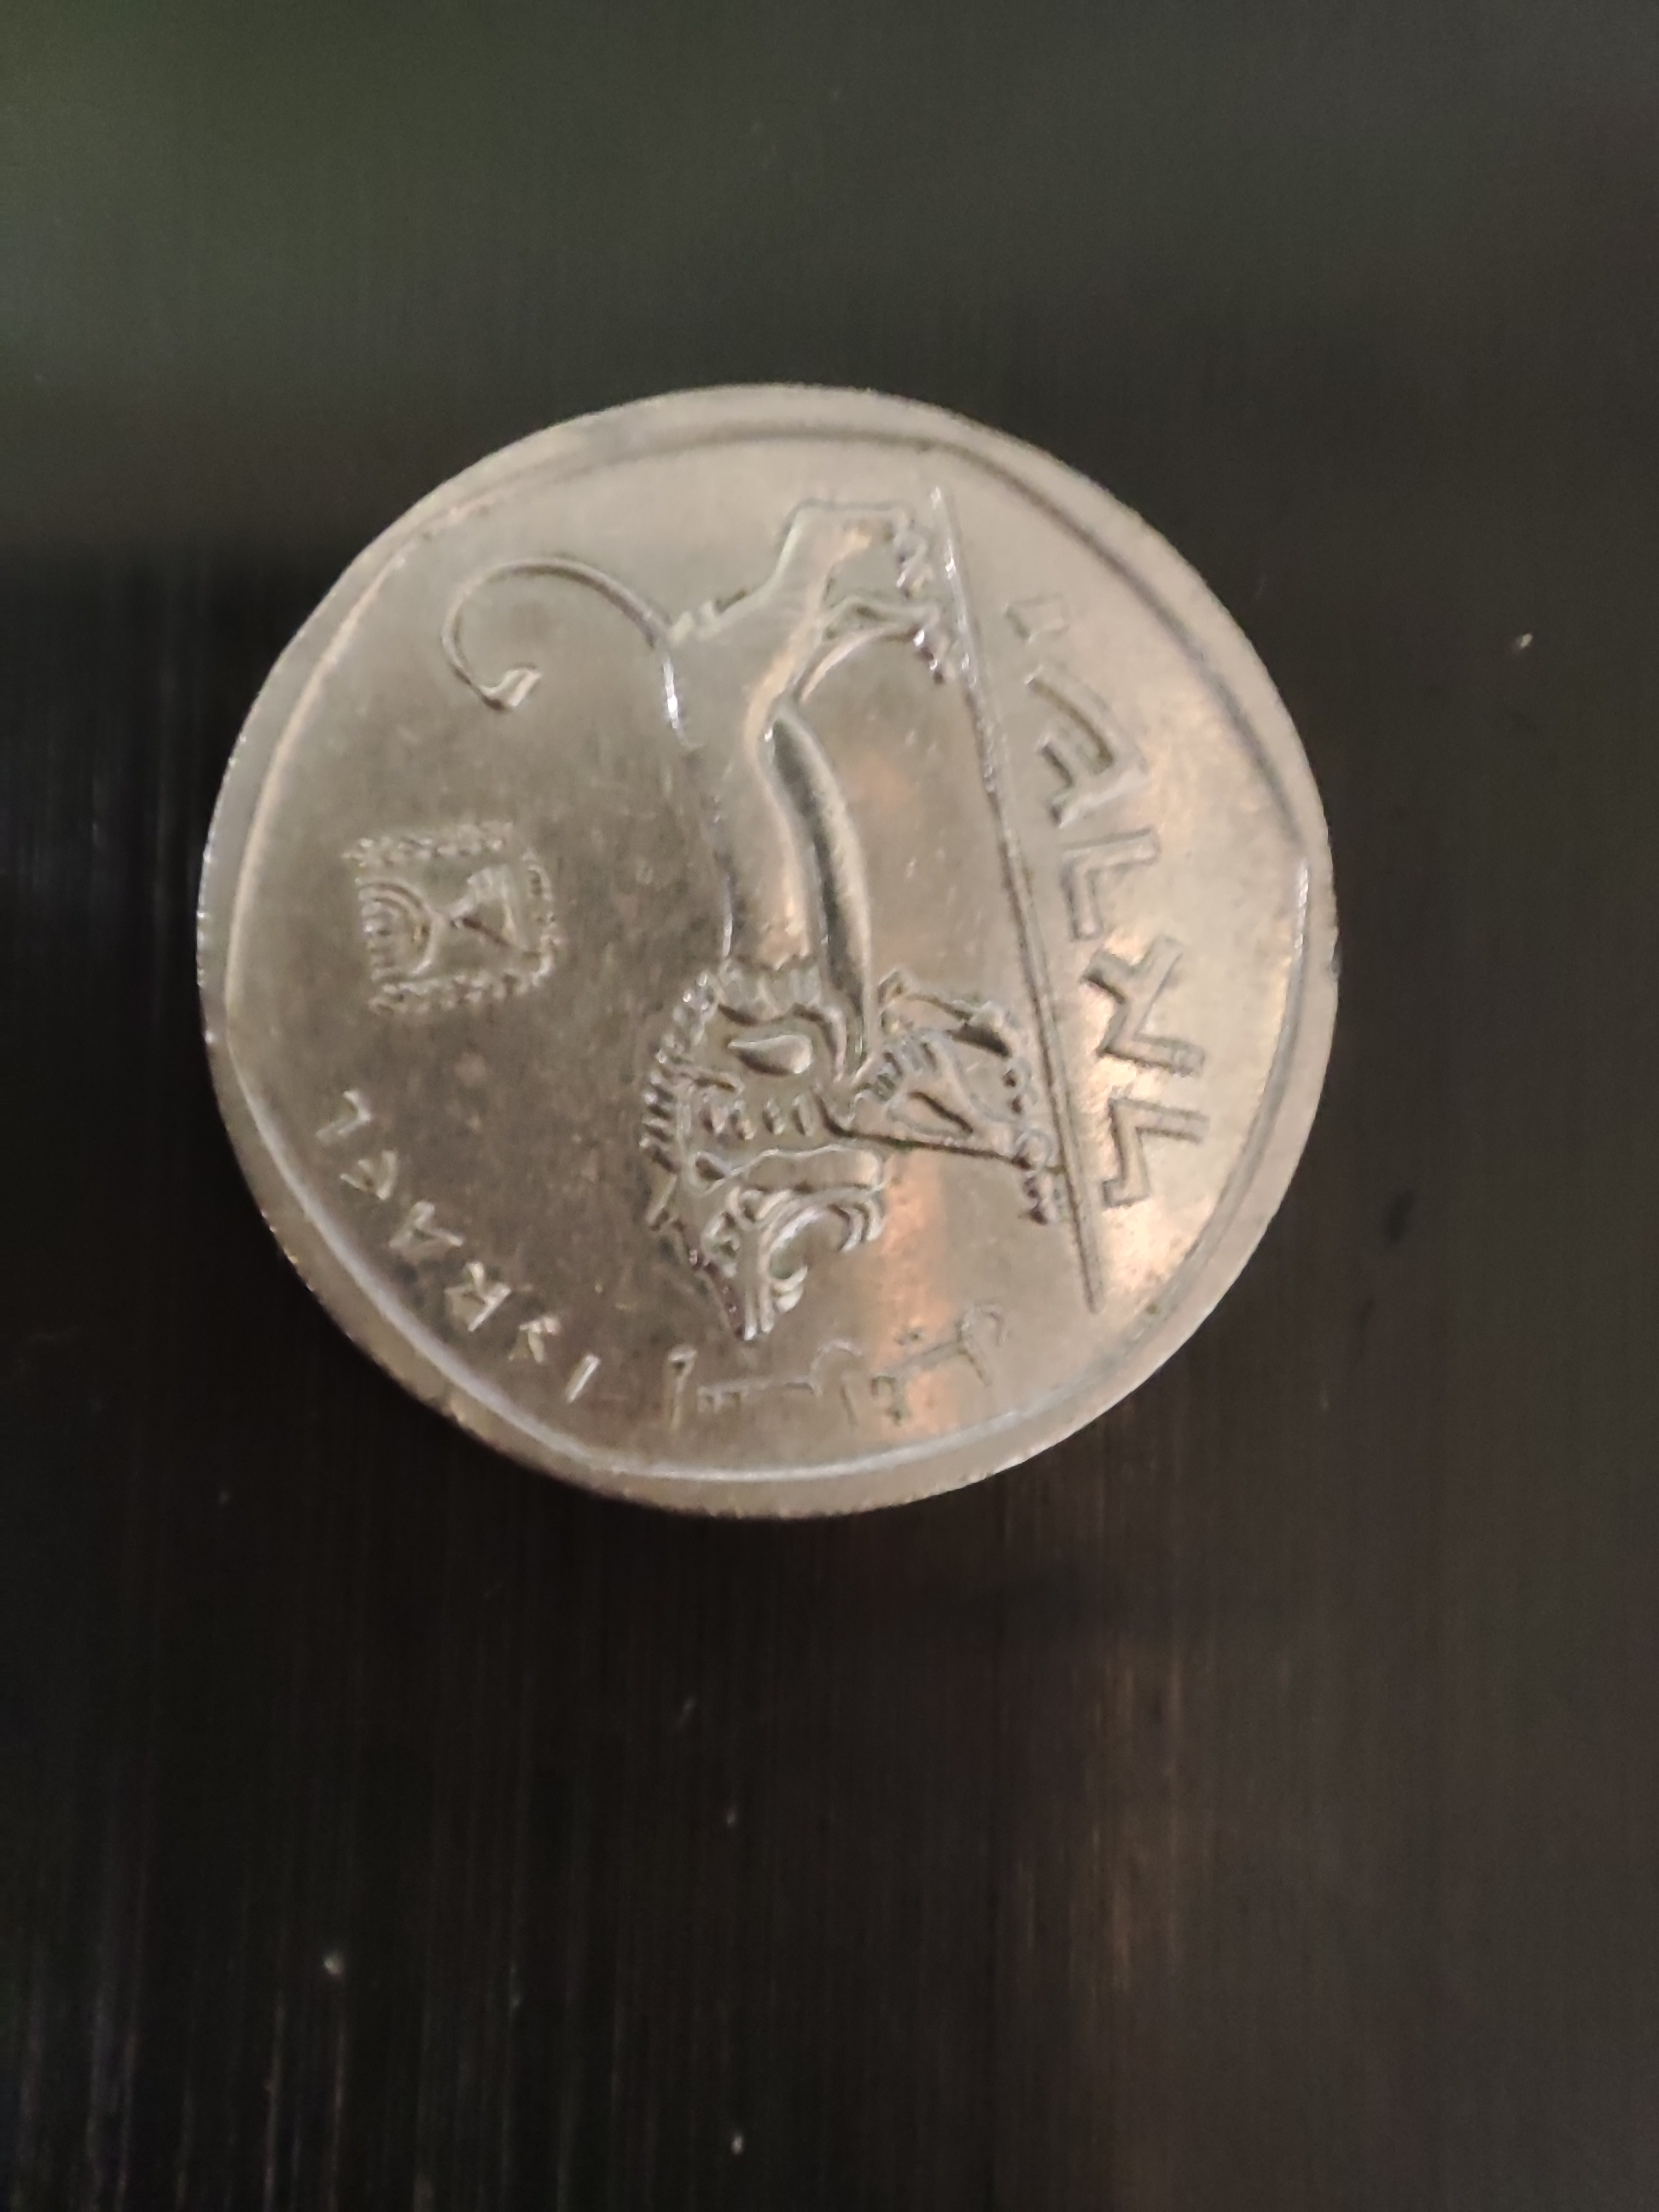1/2 old sheqel: (192, 383, 1345, 1524)
